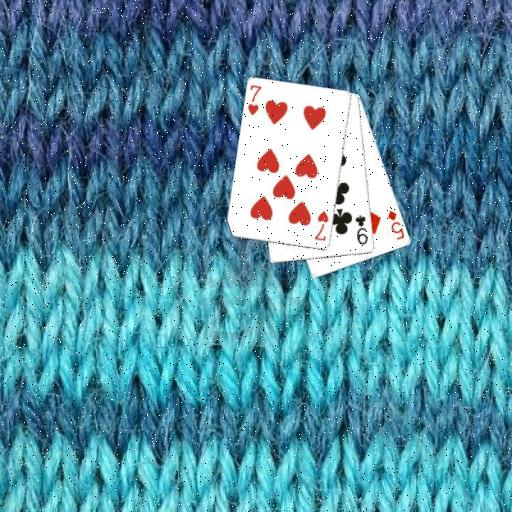5D: (385, 207, 407, 241)
7H: (312, 208, 330, 243), (245, 82, 263, 117)
9C: (352, 212, 370, 246)
